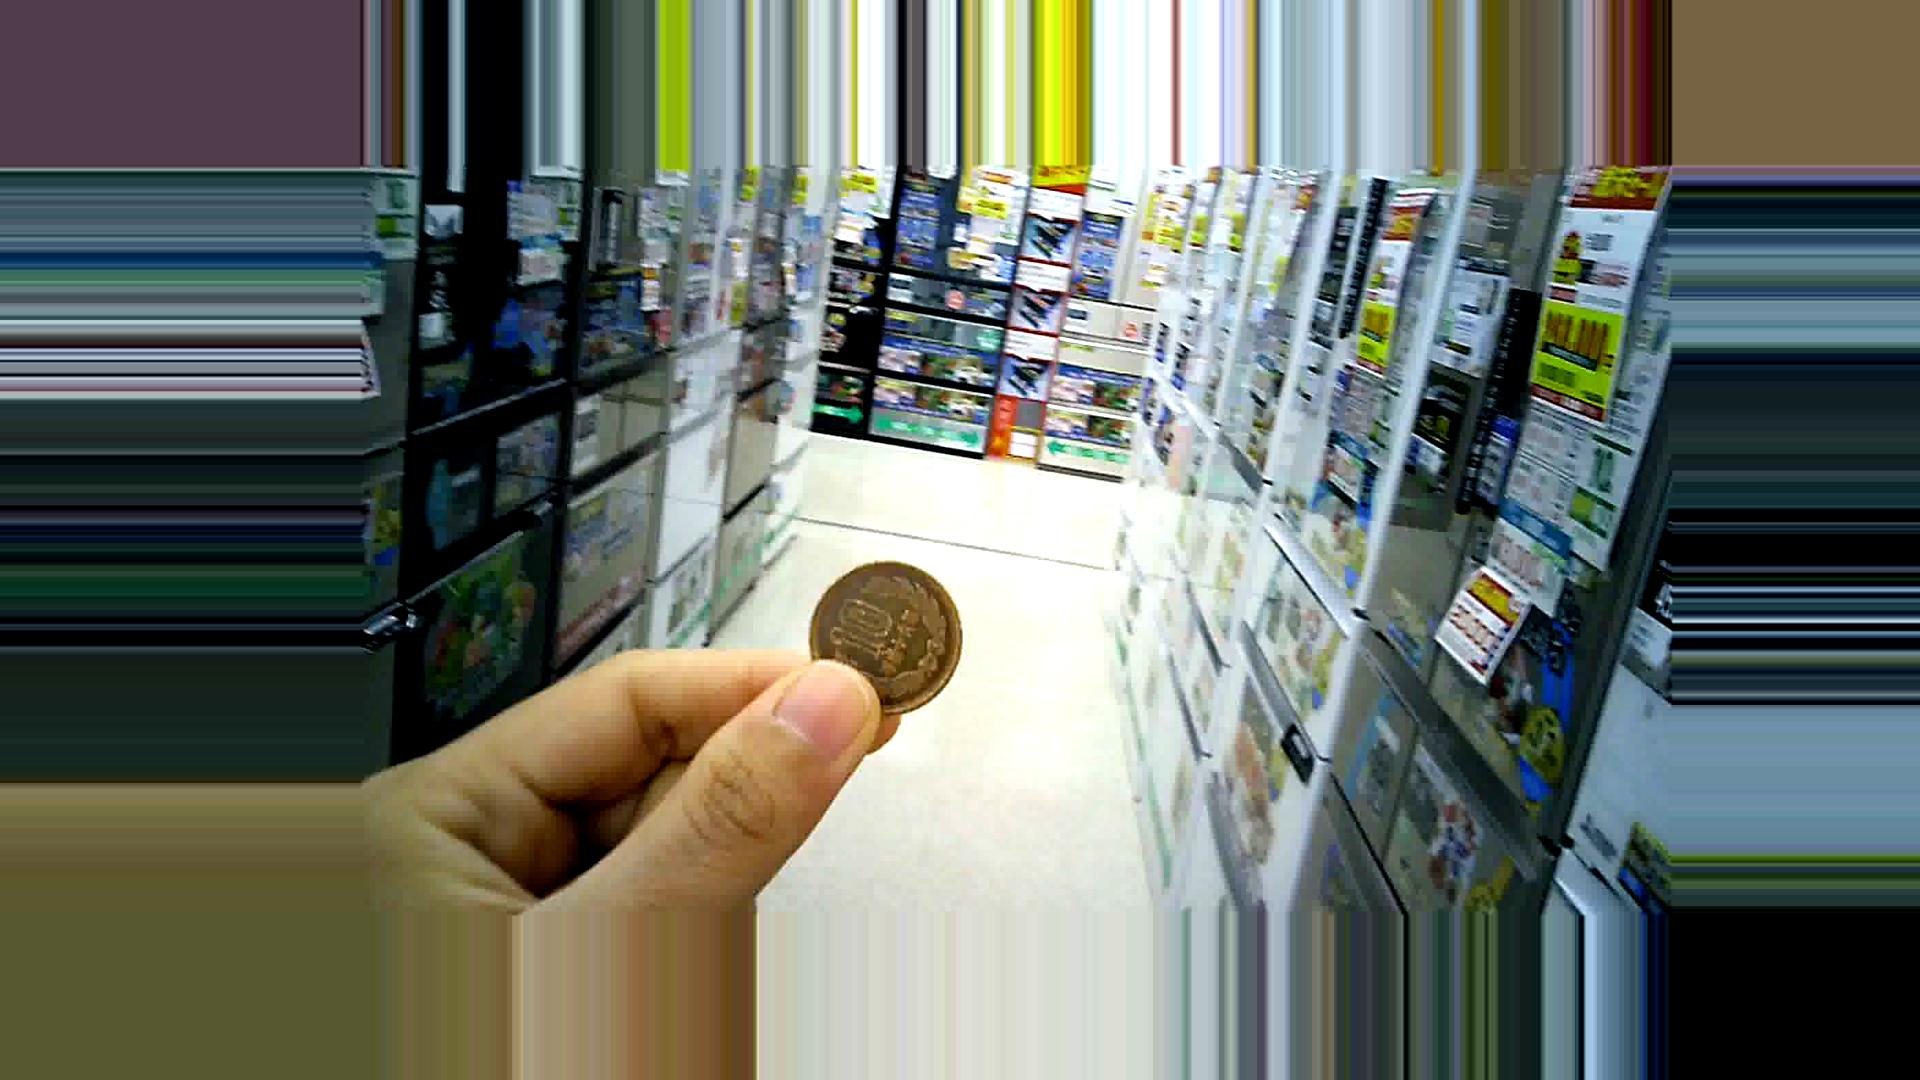10 Yen: (802, 558, 973, 723)
